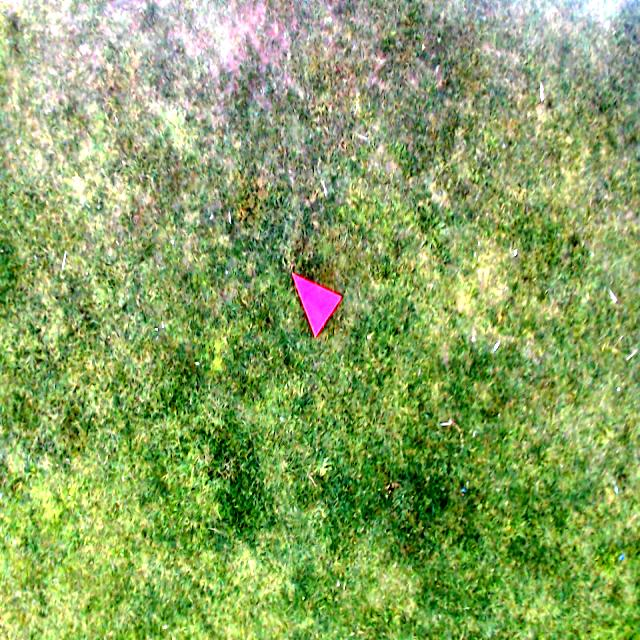red_triangle: (293, 272, 343, 341)
